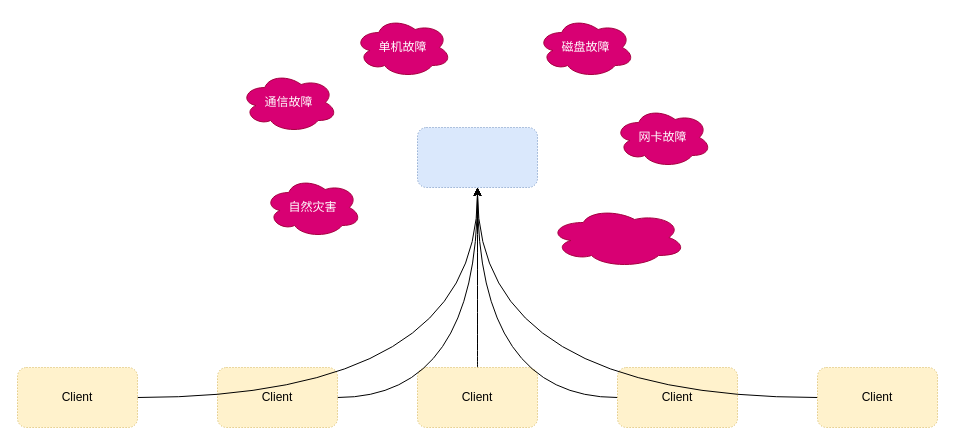
This 955x445 diagram has some shape labels left out. The shapes that lost their labels are listed below. From the top down, each one's box as (x1, y1, x2, y2) in pixels, then its label:
(416, 126, 538, 188): Server
(548, 206, 686, 268): 数据中心过热
